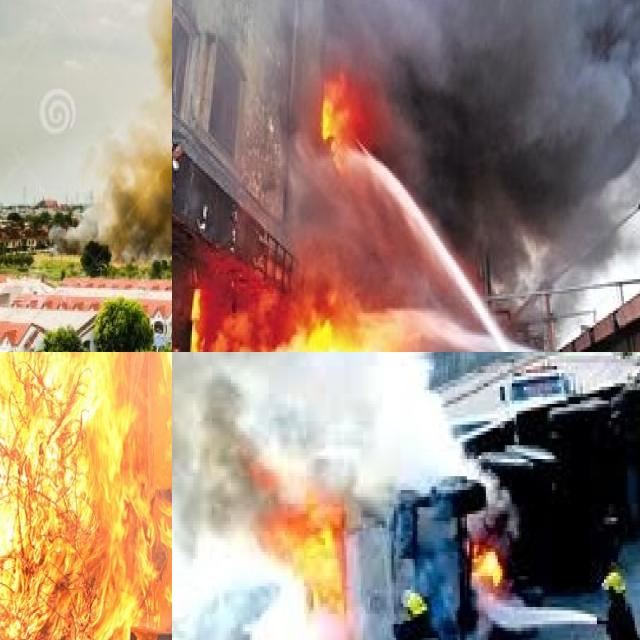fire: (0, 352, 172, 640), (188, 431, 353, 640), (175, 269, 398, 352), (312, 67, 374, 166), (453, 524, 514, 600)
smoke: (267, 0, 640, 310), (172, 352, 495, 640), (46, 0, 172, 265)
